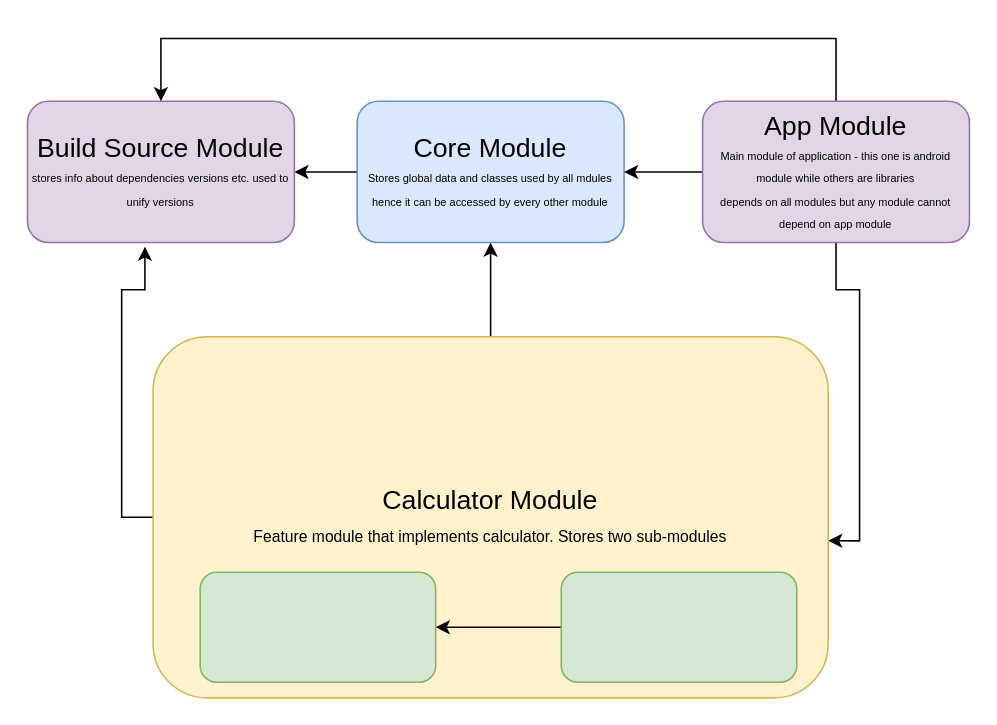
This 997x725 diagram has some shape labels left out. Here are the shapes that lost their labels. From the top down, the centre of each, then its label:
point 317,626: Domain Business logic of calculator
point 678,626: Presentation UI layer of calculator
